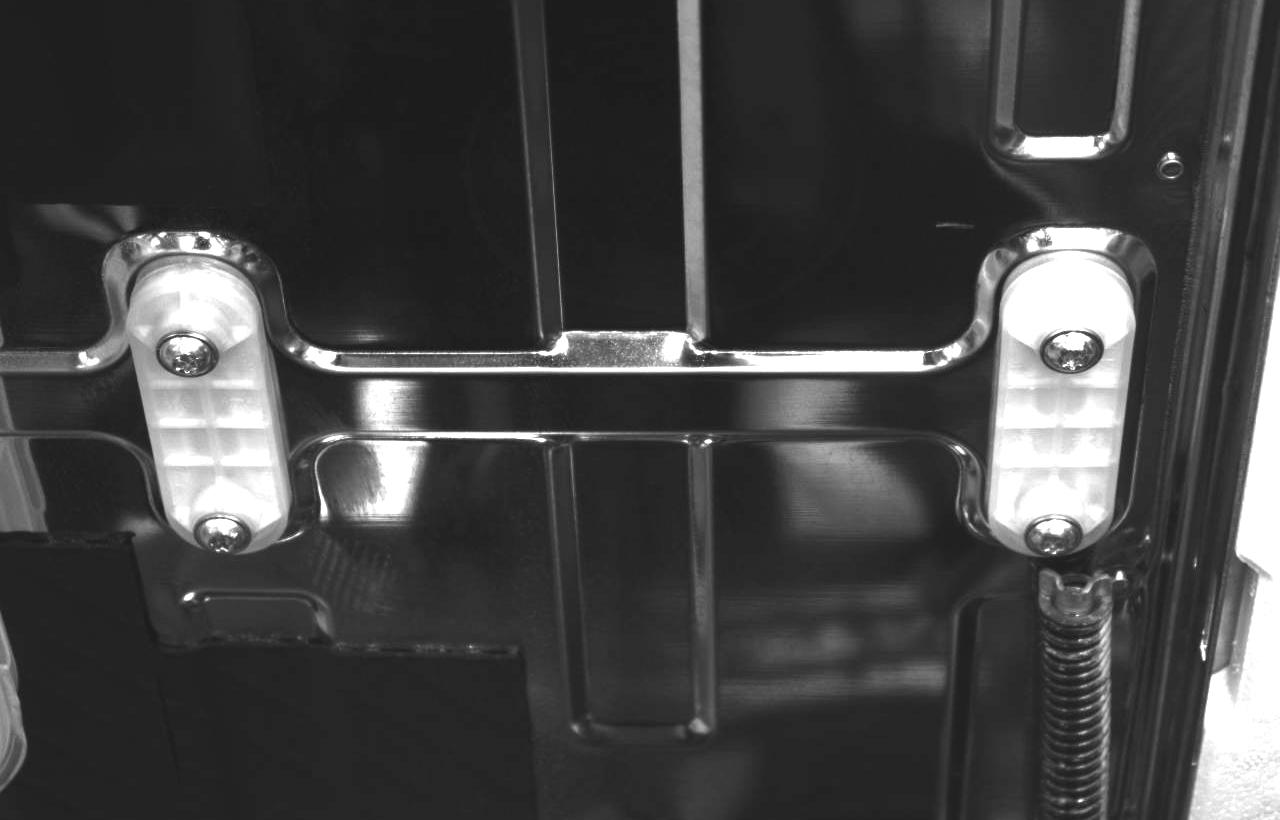vida-ok: (150, 321, 221, 388), (1037, 317, 1104, 384), (1021, 504, 1087, 562), (189, 504, 254, 562)
